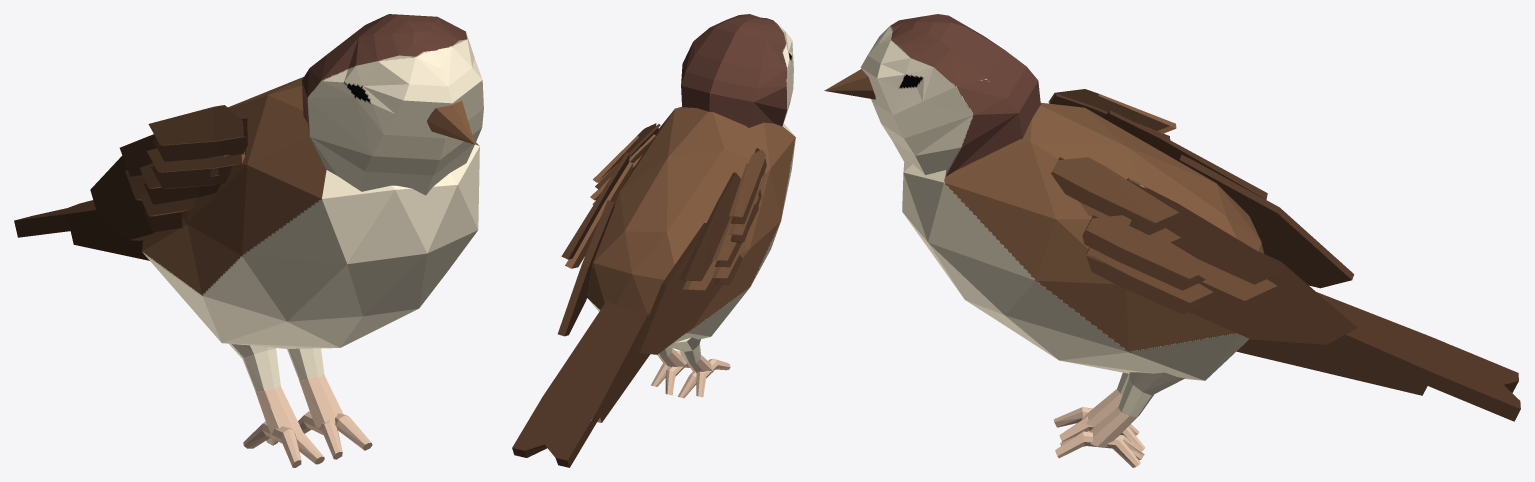
The model's file is small_bird_sitting.obj.
3 renders of one model, left to right at view 1: azimuth 30°, elevation 25°; view 2: azimuth 150°, elevation 25°; view 3: azimuth 270°, elevation 25°, orthographic. The views are drawn at different scales.
Visible parts, largest first — view 1: Small_bird_sitting; view 2: Small_bird_sitting; view 3: Small_bird_sitting.
Part boxes in pixels (box(x1,y1,x2,y2)): Small_bird_sitting: box(14, 14, 483, 467); Small_bird_sitting: box(512, 14, 795, 467); Small_bird_sitting: box(824, 14, 1520, 467).
Size of the model in its own units: 0.6259 by 1.31 by 1.9.
1 material, 1 textured.
